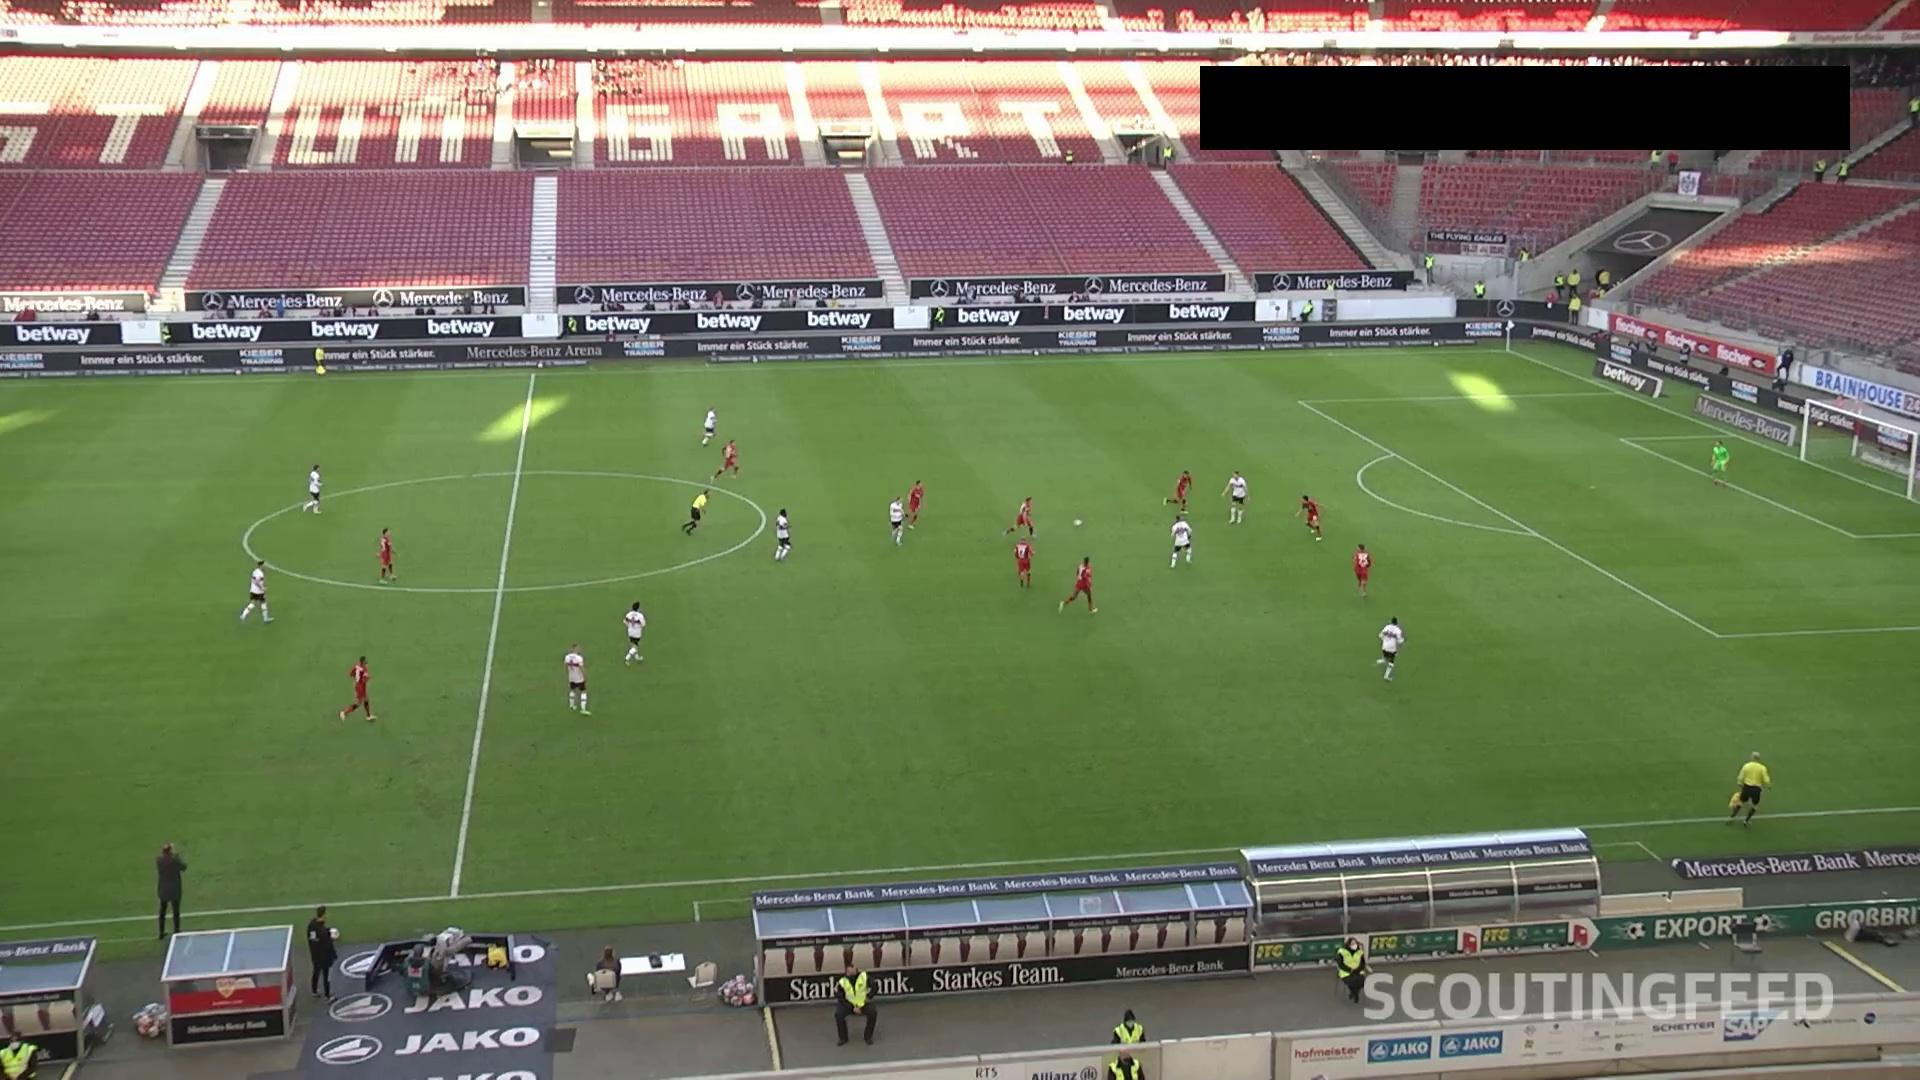Location-of-ball: (1060, 513, 1104, 537)
